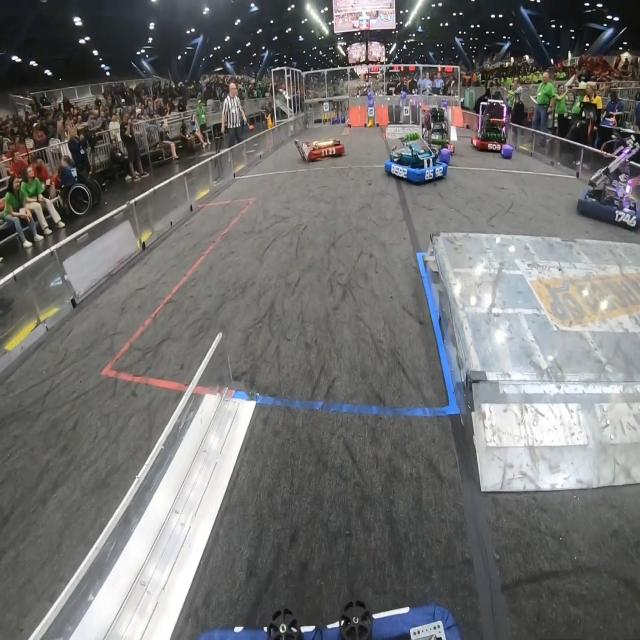robot: (577, 131, 640, 234), (384, 131, 448, 186), (470, 98, 512, 153), (422, 104, 454, 156), (294, 132, 345, 161)
